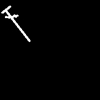double_crochet: (2, 6, 29, 41)
